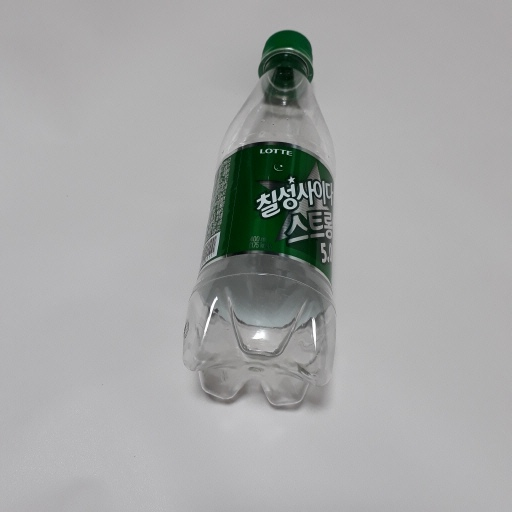Plastic_0: (181, 28, 341, 410)
